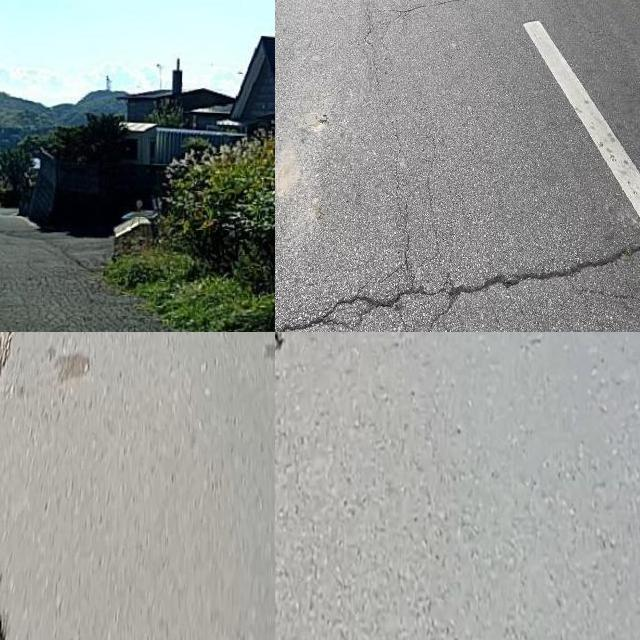Melintang: (275, 237, 640, 332)
